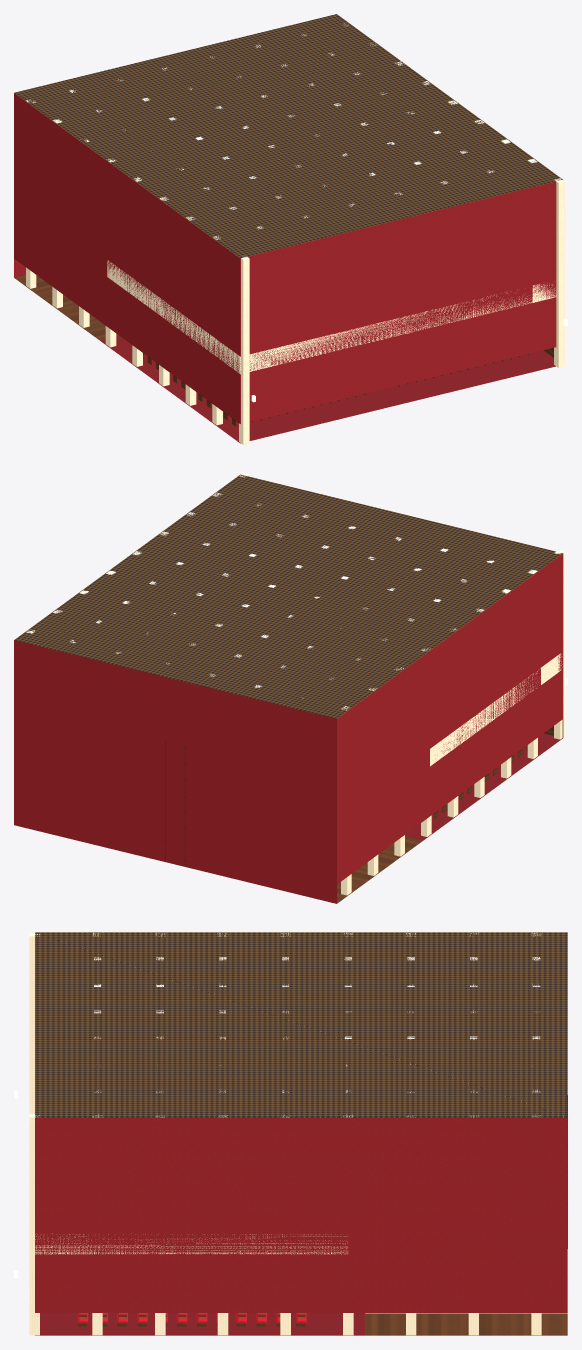
Rendered from hall.glb.
3 views of the same model, one above another, from view 1: azimuth 30°, elevation 25°; view 2: azimuth 150°, elevation 25°; view 3: azimuth 270°, elevation 25° (orthographic). The views are drawn at different scales.
Visible parts, largest first — view 1: hall_fabric, hall_ceiling, hall_plaster, hall_carpet, hall_wainscot, hall_lamp; view 2: hall_fabric, hall_ceiling, hall_plaster, hall_carpet, hall_wainscot, hall_lamp; view 3: hall_fabric, hall_ceiling, hall_plaster, hall_carpet, hall_wainscot, hall_velvet, hall_lamp.
Boxes of the visible parts, left/top/right/bottom form: hall_fabric: left=14, top=93, right=556, bottom=423; hall_ceiling: left=14, top=14, right=562, bottom=258; hall_plaster: left=26, top=23, right=564, bottom=444; hall_carpet: left=100, top=336, right=555, bottom=443; hall_wainscot: left=14, top=275, right=553, bottom=426; hall_lamp: left=69, top=34, right=494, bottom=229; hall_fabric: left=14, top=553, right=563, bottom=903; hall_ceiling: left=14, top=474, right=562, bottom=718; hall_plaster: left=26, top=473, right=564, bottom=895; hall_carpet: left=405, top=733, right=562, bottom=840; hall_wainscot: left=165, top=719, right=563, bottom=903; hall_lamp: left=70, top=504, right=494, bottom=698; hall_fabric: left=35, top=1117, right=567, bottom=1312; hall_ceiling: left=35, top=932, right=567, bottom=1117; hall_plaster: left=29, top=932, right=541, bottom=1335; hall_carpet: left=35, top=1313, right=364, bottom=1335; hall_wainscot: left=77, top=1095, right=567, bottom=1335; hall_velvet: left=77, top=1313, right=306, bottom=1322; hall_lamp: left=94, top=957, right=540, bottom=1092.
Size of the model in its own units: 21 by 11.5 by 26.51.
11 materials, 8 textured.
